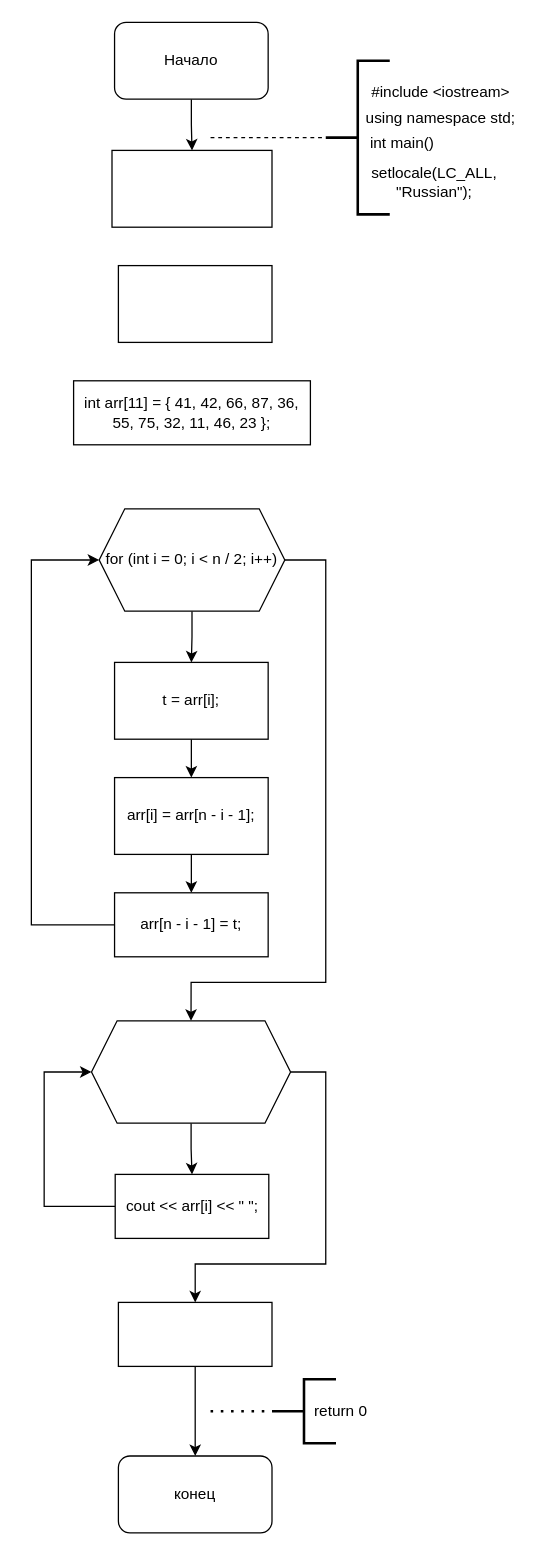
Image size: 553x1555. Some labels were removed from this diagram. The box of each missing label's shape, as (x1, y1, x2, y2) in pixels:
cout << endl;: (117, 1301, 272, 1366)
for (int i = 0; i < n; i++): (90, 1020, 291, 1123)
int n, t;: (111, 149, 272, 227)
n = 11;: (117, 264, 272, 342)
